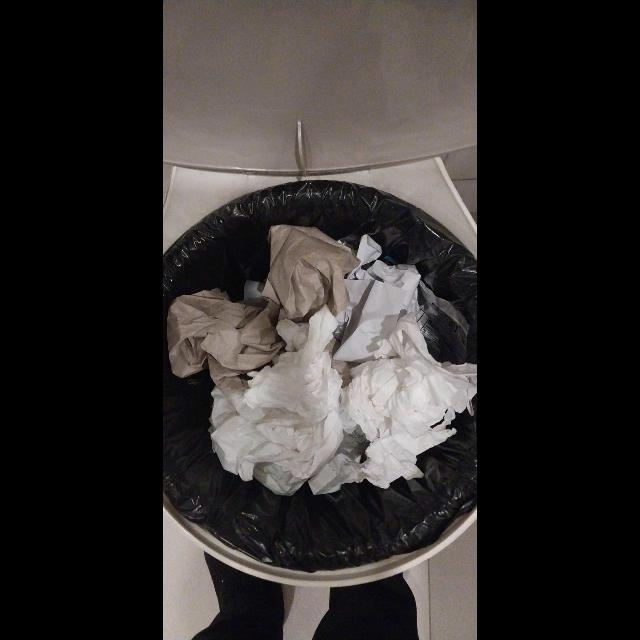paper: (341, 321, 477, 456), (210, 387, 344, 496), (233, 305, 343, 425), (167, 288, 287, 378), (262, 225, 361, 323), (333, 277, 420, 364), (307, 437, 425, 495), (345, 234, 421, 315)
